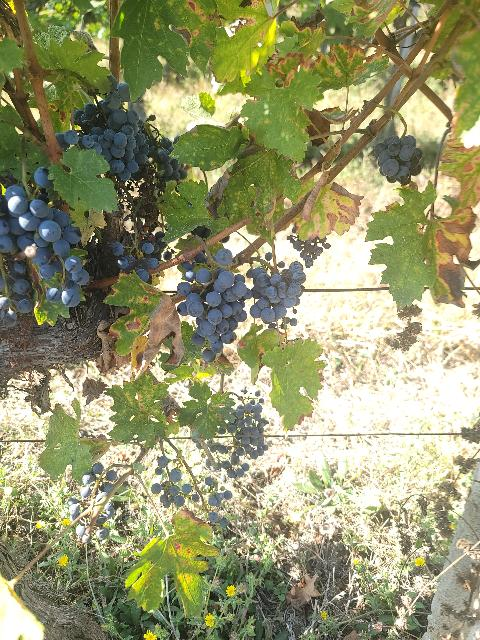grapes: (176, 249, 305, 362), (0, 185, 90, 328), (74, 90, 138, 180), (248, 261, 306, 329), (228, 391, 269, 459), (286, 235, 330, 268)
